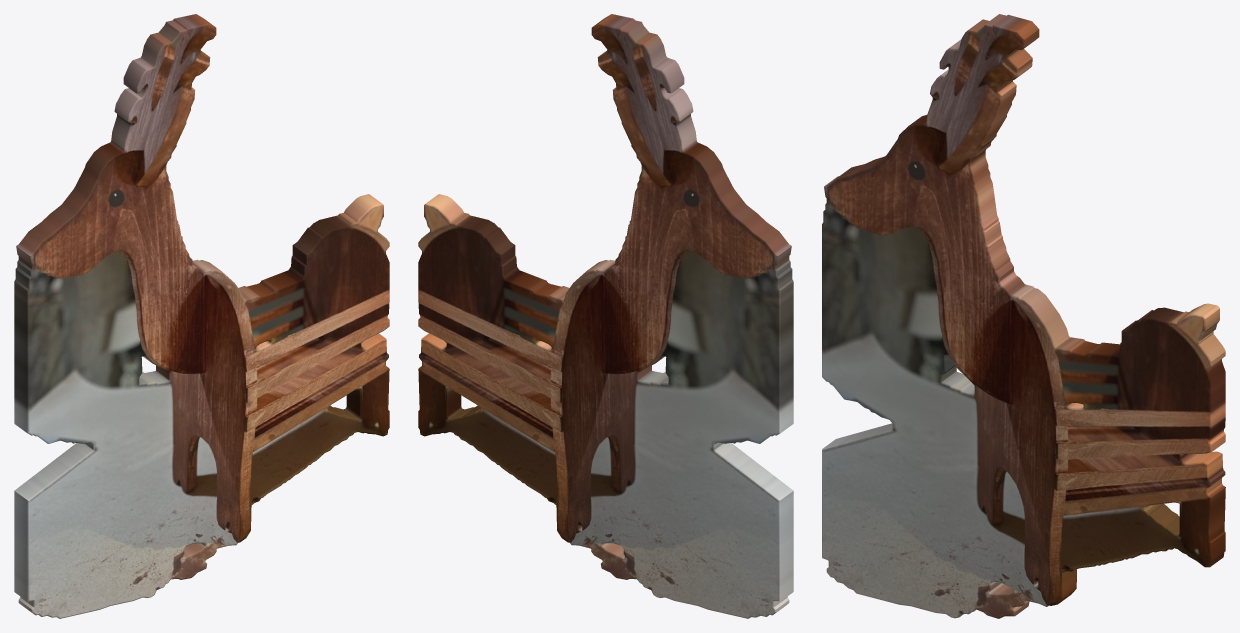
The model's file is reindeer-holder.glb.
3 renders of one model, left to right at view 1: azimuth 30°, elevation 25°; view 2: azimuth 150°, elevation 25°; view 3: azimuth 330°, elevation 25°, orthographic. The views are drawn at different scales.
Visible parts, largest first — view 1: Reindeer card holder; view 2: Reindeer card holder; view 3: Reindeer card holder.
Boxes of the visible parts, left/top/right/bottom form: Reindeer card holder: left=14, top=14, right=389, bottom=618; Reindeer card holder: left=418, top=14, right=793, bottom=618; Reindeer card holder: left=822, top=14, right=1225, bottom=618.
Size of the model in its own units: 0.3156 by 0.4667 by 0.0214.
Materials: 1 (1 with a texture image).
